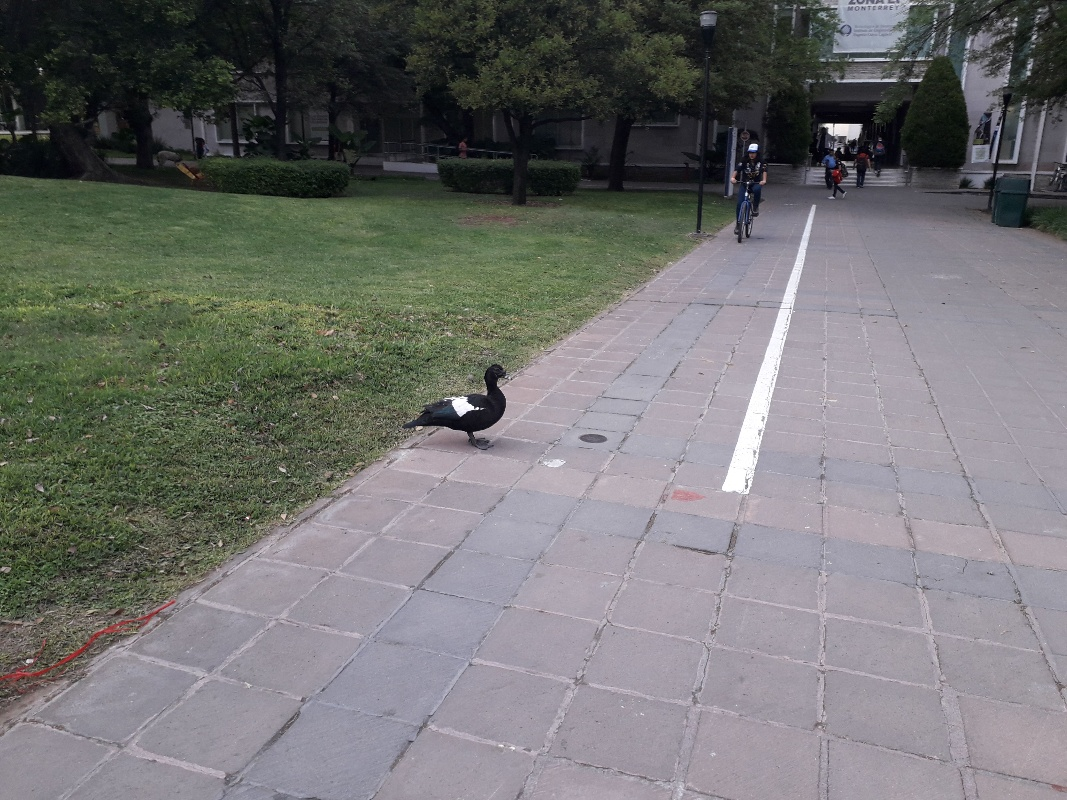pato: (407, 360, 507, 447)
